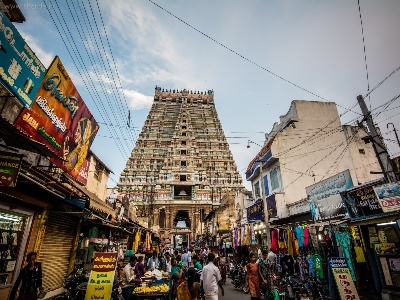gopura: (110, 68, 260, 213)
